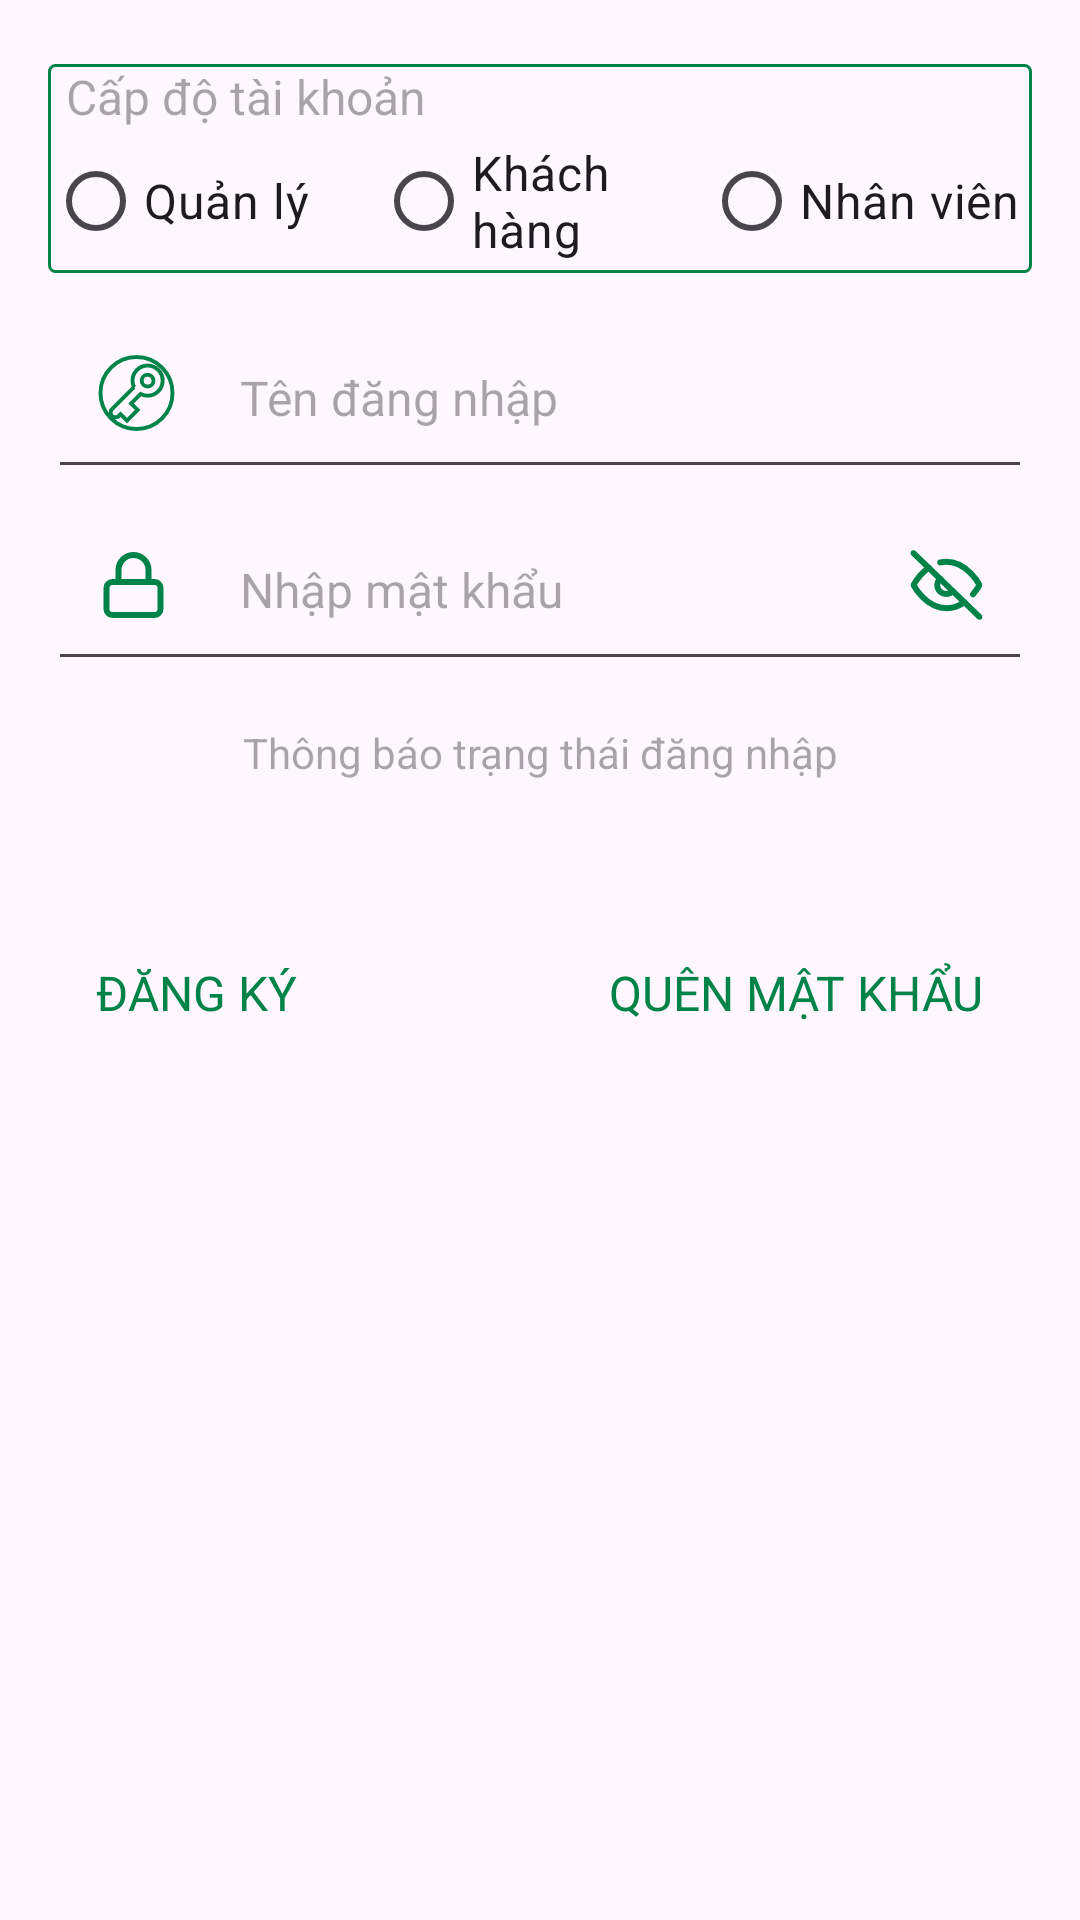

Screen size 1080 x 1920. Icon name, then its box in pixels as (left=x1, top=y1, right=x2, bottom=y2):
password: (left=103, top=552, right=164, bottom=618)
showpassword: (left=910, top=550, right=983, bottom=620)
